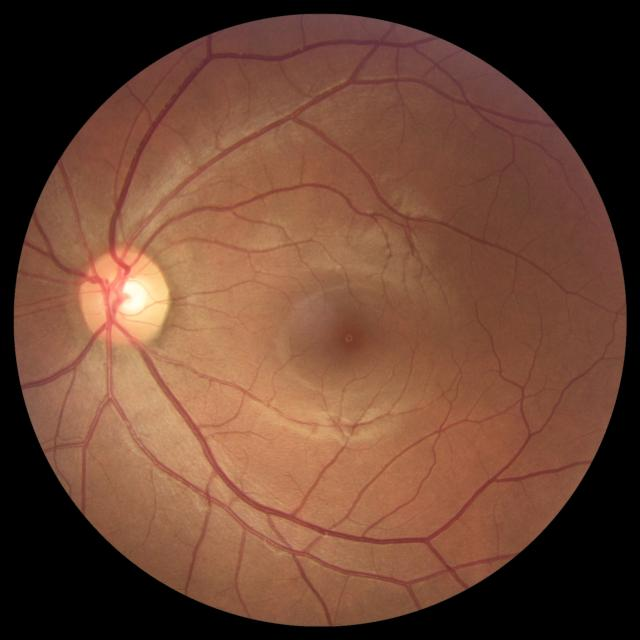OC: (110, 275, 150, 316)
OD: (80, 247, 169, 348)
